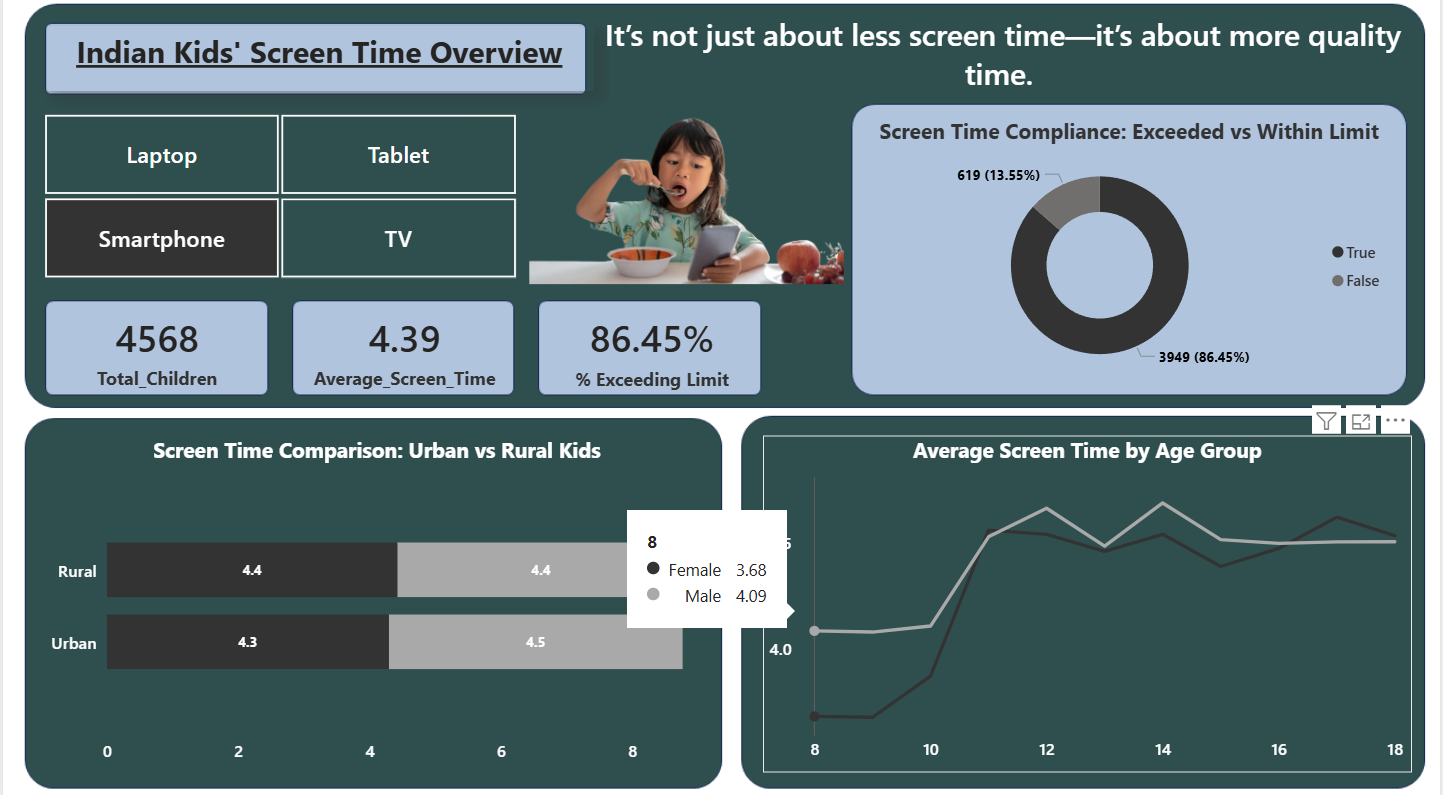

The dashboard page shown, as its layout file describes it:
{"tool":"powerbi","page":{"name":" Dashboard Overview","canvas":[1280,720],"ordinal":0},"visuals":[{"type":"barChart","title":"Screen Time Comparison: Urban vs Rural Kids","fields":{"Category":["Table.Urban_or_Rural"],"Y":["Avg(Table.Avg_Daily_Screen_Time_hr)"],"Series":["Table.Gender"]},"box":[36.2,394.5,592.4,301.6],"z":0},{"type":"lineChart","title":"Average Screen Time by Age Group","fields":{"Category":["Table.Age"],"Y":["Avg(Table.Avg_Daily_Screen_Time_hr)"],"Series":["Table.Gender"]},"box":[676.8,394.5,577.9,300.4],"z":1000},{"type":"donutChart","title":" Screen Time Compliance: Exceeded vs Within Limit","fields":{"Category":["Table.Exceeded_Recommended_Limit"],"Y":["Table.Total_Children"]},"box":[766.1,109.8,474.1,240.1],"z":2000},{"type":"slicer","fields":{"Values":["Table.Primary_Device"]},"box":[10.9,101.3,469.3,159.3],"z":3000},{"type":"card","fields":{"Values":["Table.Total_Children"]},"box":[44.5,276.1,185.9,83.5],"z":4000},{"type":"card","fields":{"Values":["Table.Average_Screen_Time"]},"box":[264.9,276.1,185.9,83.5],"z":5000},{"type":"card","fields":{"Values":["Table.Exceeded_Limit_Percentage"]},"box":[479.8,277.2,197,82.4],"z":6000},{"type":"textbox","box":[36.6,29.3,489.9,58.6],"z":7000},{"type":"textbox","box":[526.5,13.4,728.1,88],"z":8000},{"type":"image","box":[463,96.5,290.7,167.4],"z":9000}]}

Visuals, with their boxes in screenshot pixels (x1, y1, x2, y2), scaled from the page's 1280x720 canvas onto the 1443x795 screenshot:
"Screen Time Comparison: Urban vs Rural Kids" barChart: pyautogui.locateOnScreen(41, 436, 709, 769)
"Average Screen Time by Age Group" lineChart: pyautogui.locateOnScreen(763, 436, 1414, 767)
" Screen Time Compliance: Exceeded vs Within Limit" donutChart: pyautogui.locateOnScreen(864, 121, 1398, 386)
slicer - Table.Primary_Device: pyautogui.locateOnScreen(12, 112, 541, 288)
card - Table.Total_Children: pyautogui.locateOnScreen(50, 305, 260, 397)
card - Table.Average_Screen_Time: pyautogui.locateOnScreen(299, 305, 508, 397)
card - Table.Exceeded_Limit_Percentage: pyautogui.locateOnScreen(541, 306, 763, 397)
textbox: pyautogui.locateOnScreen(41, 32, 594, 97)
textbox: pyautogui.locateOnScreen(594, 15, 1414, 112)
image: pyautogui.locateOnScreen(522, 107, 850, 291)
